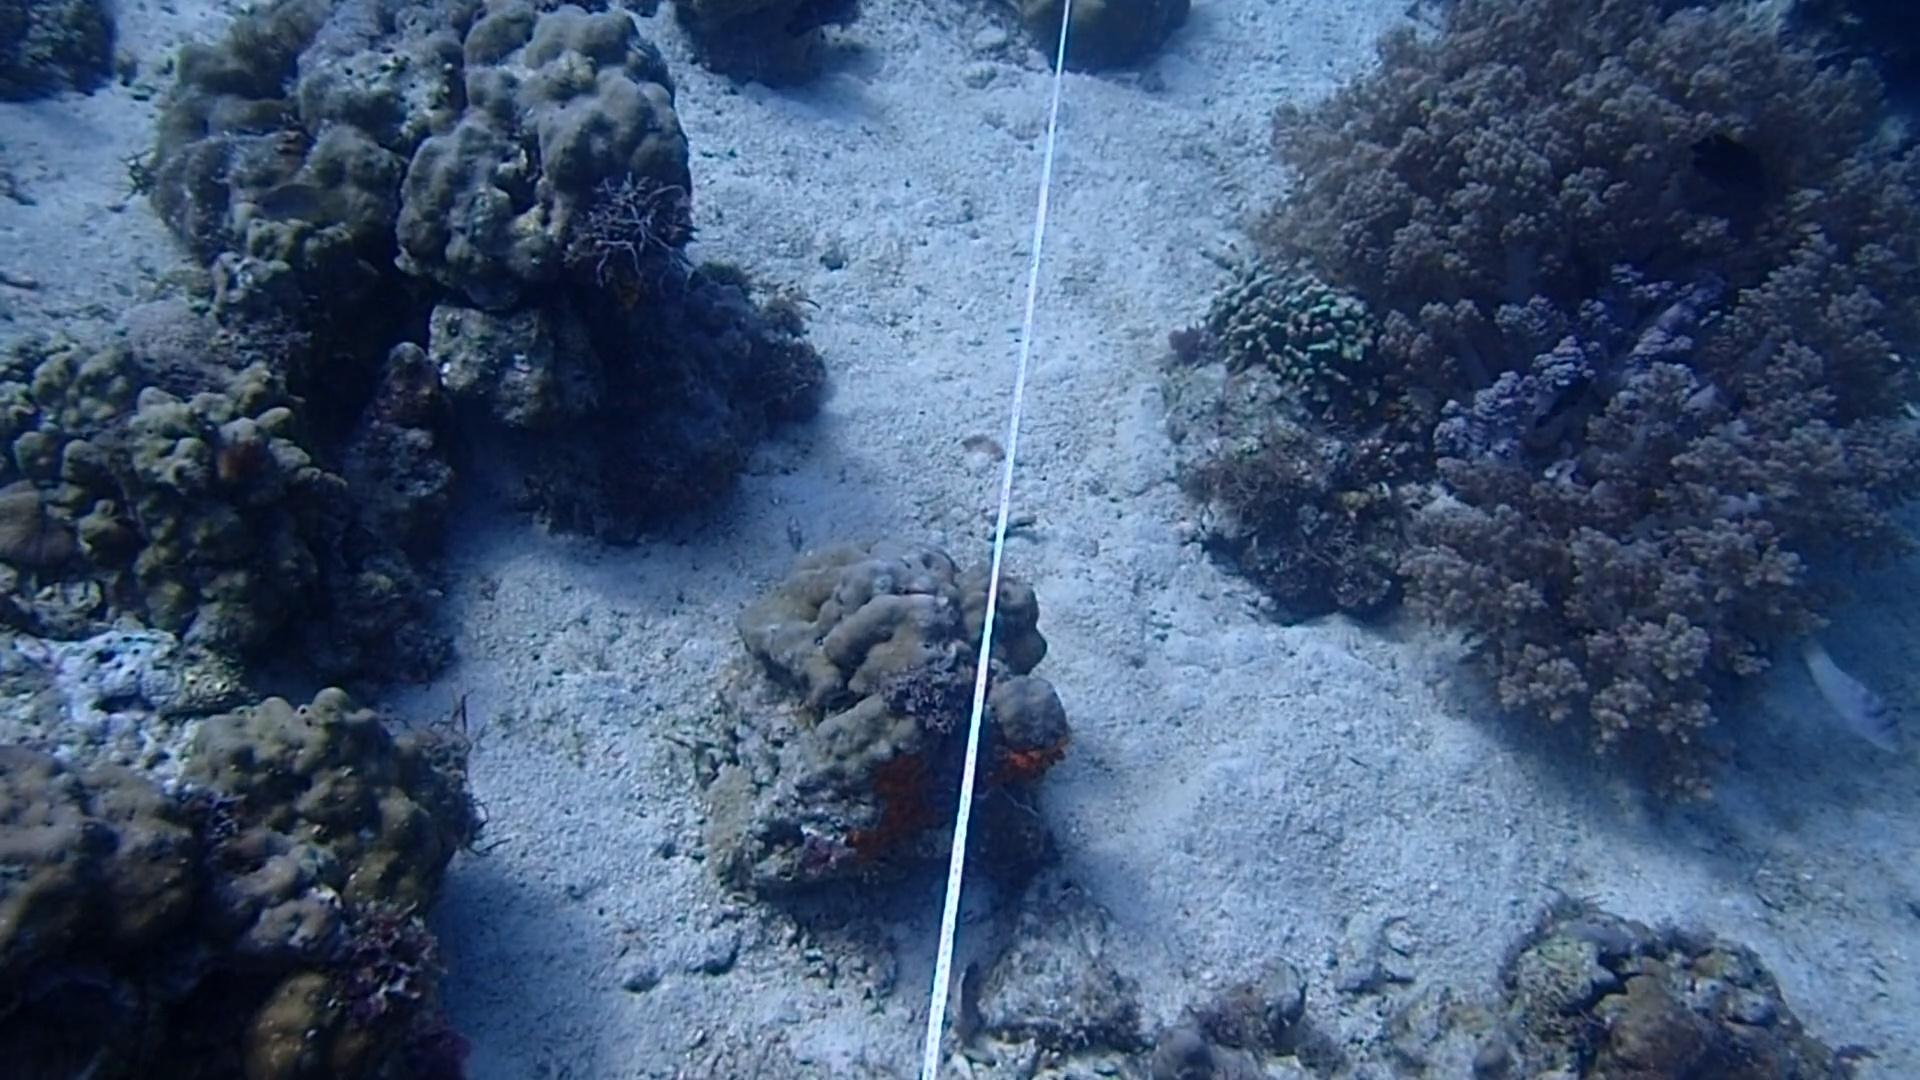Dark Fish: (1677, 117, 1772, 198), (1516, 369, 1605, 438)
Light Fish w Back Stripes: (1799, 641, 1909, 765)
